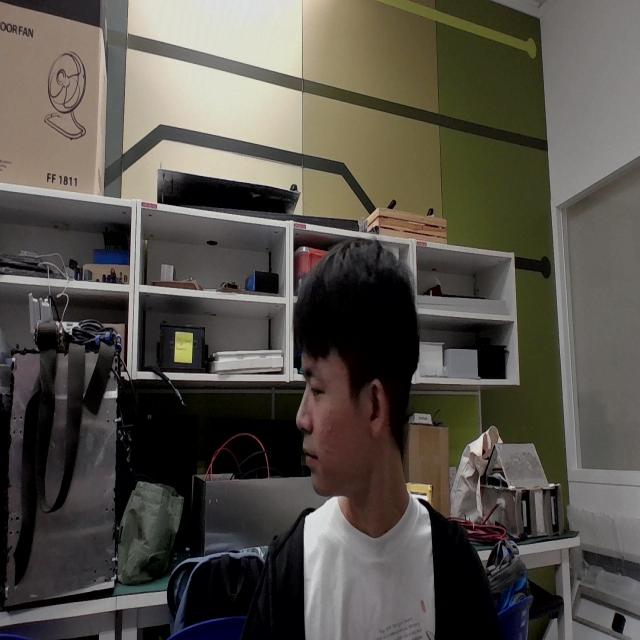Without Helmet: (262, 198, 460, 542)
